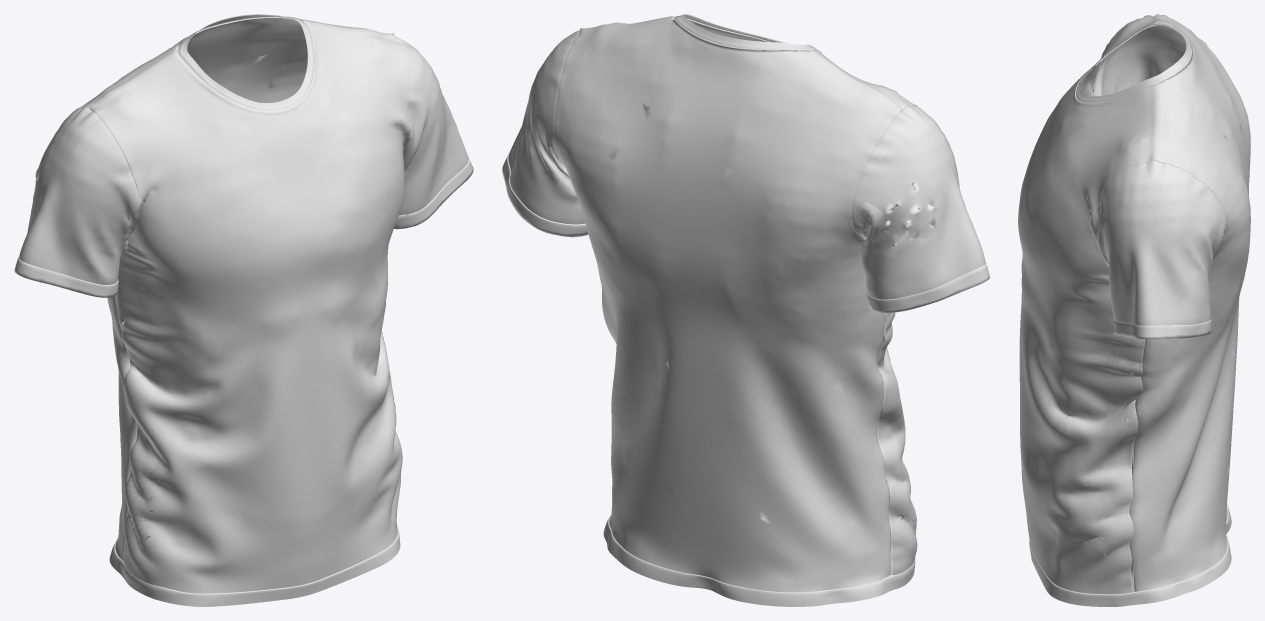
File: oversized_t-shirt.glb
3 views of the same model, side by side, from view 1: azimuth 30°, elevation 25°; view 2: azimuth 150°, elevation 25°; view 3: azimuth 270°, elevation 25° (orthographic). The views are drawn at different scales.
Visible parts, largest first — view 1: T_Shirt_exterieur_ext_0_0, T_Shirt_int_int_0_1; view 2: T_Shirt_exterieur_ext_0_0, T_Shirt_int_int_0_1; view 3: T_Shirt_exterieur_ext_0_0, T_Shirt_int_int_0_1.
Part boxes in pixels (<box>): T_Shirt_exterieur_ext_0_0: <box>14,16,473,606</box>; T_Shirt_int_int_0_1: <box>21,14,439,591</box>; T_Shirt_exterieur_ext_0_0: <box>502,14,989,606</box>; T_Shirt_int_int_0_1: <box>615,14,982,580</box>; T_Shirt_exterieur_ext_0_0: <box>1018,14,1250,606</box>; T_Shirt_int_int_0_1: <box>1048,23,1191,591</box>.
Size of the model in its own units: 0.6401 by 0.6992 by 0.2895.
Materials: 2 (1 with a texture image).
